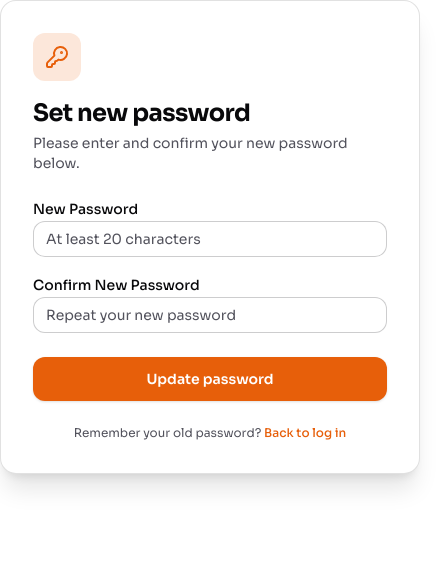
Test case: UpdatePasswordForm Component › handles unexpected network exceptions gracefully
Step 1. Type "this is a very long valid password sentence 123" into the password field labelled "New Password" → (210, 239), box [33,221,387,257]
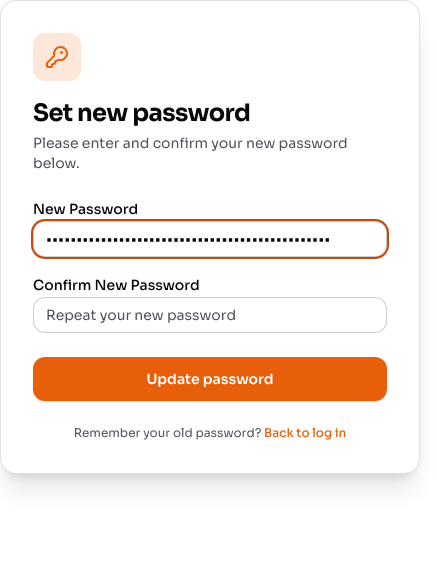
Step 2. Type "this is a very long valid password sentence 123" into the password field labelled "Confirm New Password" → (210, 315), box [33,297,387,333]
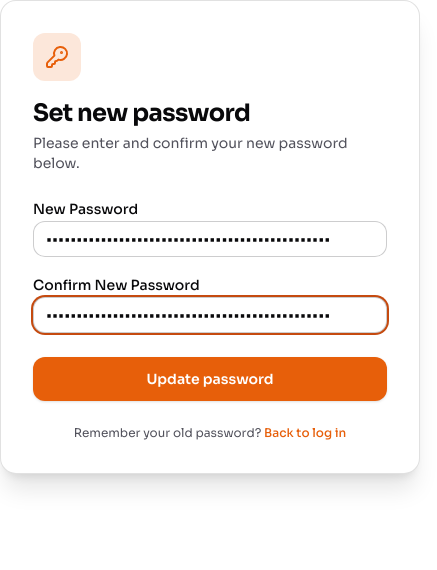
Step 3. Click the button "Update password" → (210, 379), box [33,357,387,401]
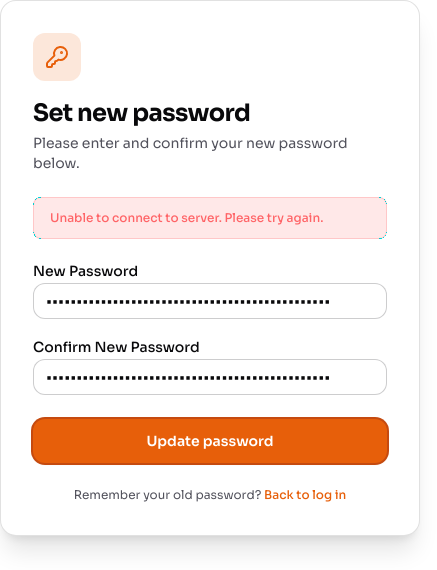
Result: the text "Unable to connect to server. Please try again." is shown at [33,197,387,239]
